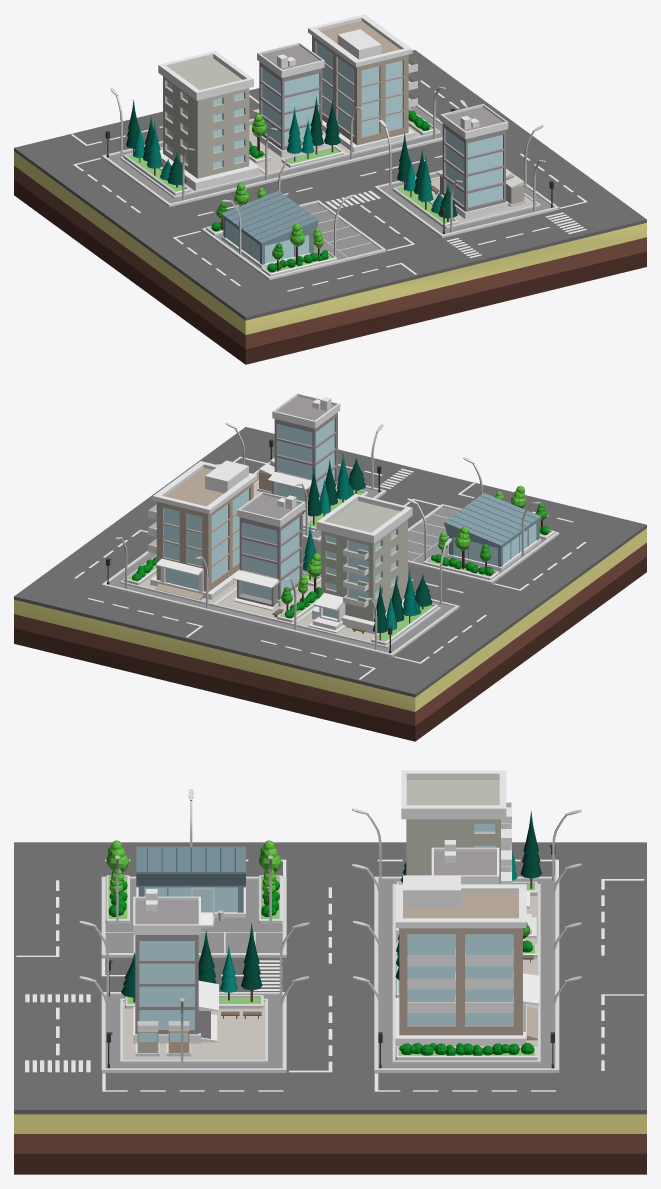
File: City_2.fbx
3 views of the same model, one above another, from view 1: azimuth 30°, elevation 25°; view 2: azimuth 150°, elevation 25°; view 3: azimuth 270°, elevation 25° (orthographic). The views are drawn at different scales.
Parts seen in each view (by area): view 1: Road, Floor, House_1 (×2), House_3, House_2, shop, Floor_4, base, Road_line, Floor_1, Floor_6, floor_2 (+6 smaller); view 2: Road, Floor, House_1 (×2), House_3, House_2, shop, Floor_4, base, Road_line, Bushes (×2), Floor_6, Floor_7 (+2 smaller); view 3: Road, Floor, House_3, House_1 (×2), Floor_4, shop, base, floor_2, Floor_1, Road_line, House_2, Bushes (×2) (+11 smaller).
Boxes of the visible parts, bbox=[...] form: Road: bbox=[14, 50, 646, 320]; Floor: bbox=[14, 151, 646, 364]; House_1 (×2): bbox=[158, 51, 508, 218]; House_3: bbox=[308, 14, 417, 152]; House_2: bbox=[252, 42, 324, 157]; shop: bbox=[221, 190, 318, 268]; Floor_4: bbox=[101, 104, 442, 207]; base: bbox=[201, 200, 386, 280]; Road_line: bbox=[71, 80, 587, 291]; Floor_1: bbox=[374, 170, 559, 237]; Floor_6: bbox=[249, 125, 346, 175]; floor_2: bbox=[430, 176, 540, 228]; Road: bbox=[14, 427, 646, 697]; Floor: bbox=[14, 528, 646, 741]; House_1 (×2): bbox=[268, 393, 415, 634]; House_3: bbox=[148, 460, 257, 600]; House_2: bbox=[233, 491, 305, 610]; shop: bbox=[444, 493, 541, 570]; Floor_4: bbox=[101, 551, 459, 657]; base: bbox=[408, 504, 559, 583]; Road_line: bbox=[74, 456, 586, 679]; Bushes (×2): bbox=[132, 526, 549, 618]; Floor_6: bbox=[214, 581, 321, 625]; Floor_7: bbox=[293, 606, 440, 648]; Road: bbox=[14, 842, 646, 1114]; Floor: bbox=[14, 1114, 646, 1174]; House_3: bbox=[395, 875, 539, 1045]; House_1 (×2): bbox=[133, 770, 536, 1043]; Floor_4: bbox=[374, 876, 559, 1072]; shop: bbox=[136, 846, 245, 926]; base: bbox=[101, 876, 286, 957]; floor_2: bbox=[120, 998, 267, 1063]; Floor_1: bbox=[101, 992, 286, 1072]; Road_line: bbox=[16, 859, 644, 1091]; House_2: bbox=[431, 840, 499, 884]; Bushes (×2): bbox=[108, 873, 534, 1055].
Size of the model in its own units: 2162 by 762 by 2162.
